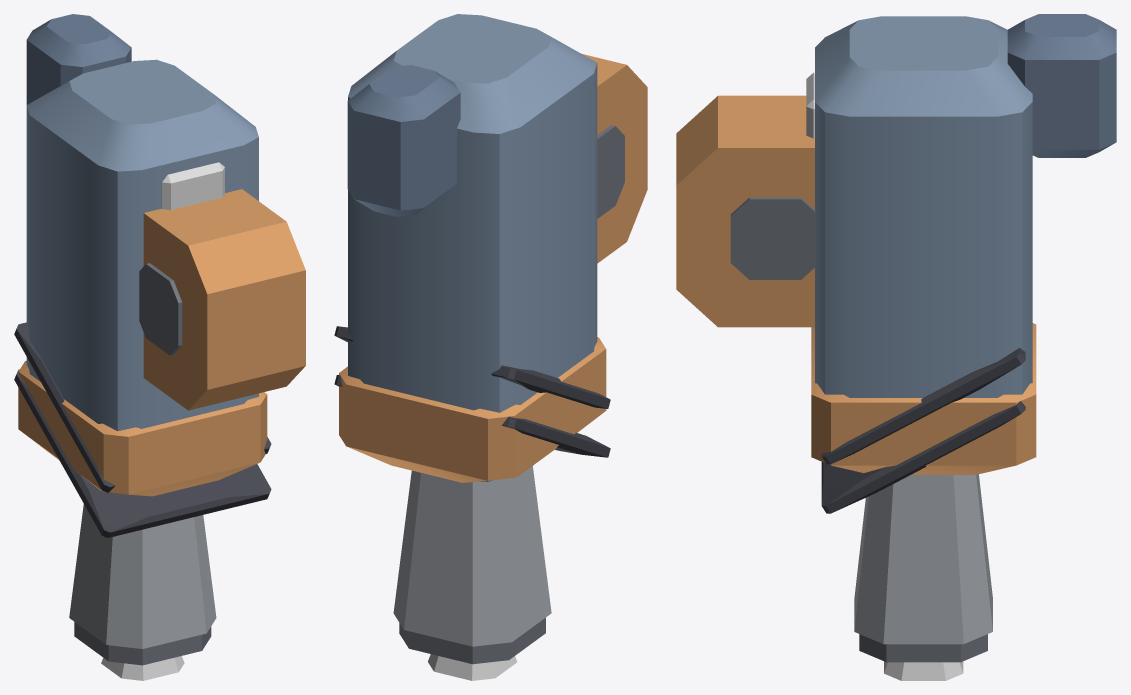
File: gear_riveteuse.glb
The picture shows the model from 3 angles, left to right: view 1: azimuth 30°, elevation 25°; view 2: azimuth 150°, elevation 25°; view 3: azimuth 270°, elevation 25°; orthographic projection. The views are drawn at different scales.
Visible parts, largest first — view 1: gun__riveteuse, gun__riveteuse_glow; view 2: gun__riveteuse, gun__riveteuse_glow; view 3: gun__riveteuse, gun__riveteuse_glow.
Boxes of the visible parts, x1,y1,x2,y2 form: gun__riveteuse: [14, 14, 305, 665]; gun__riveteuse_glow: [101, 162, 224, 680]; gun__riveteuse: [334, 14, 647, 664]; gun__riveteuse_glow: [428, 654, 516, 680]; gun__riveteuse: [676, 14, 1116, 662]; gun__riveteuse_glow: [806, 72, 963, 680].
Size of the model in its own units: 0.085 by 0.285 by 0.178.
